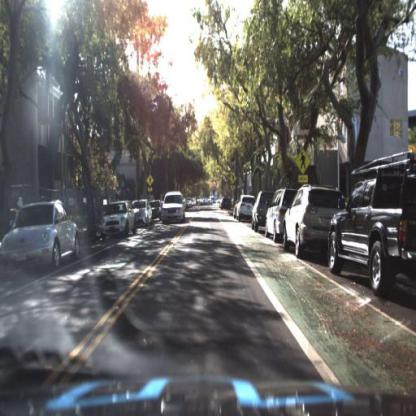car: (325, 149, 411, 292), (2, 198, 81, 281), (280, 184, 350, 255), (263, 188, 294, 241), (100, 202, 138, 241), (251, 192, 277, 232), (160, 191, 190, 225), (162, 191, 187, 225), (236, 193, 259, 227), (134, 197, 157, 228)
